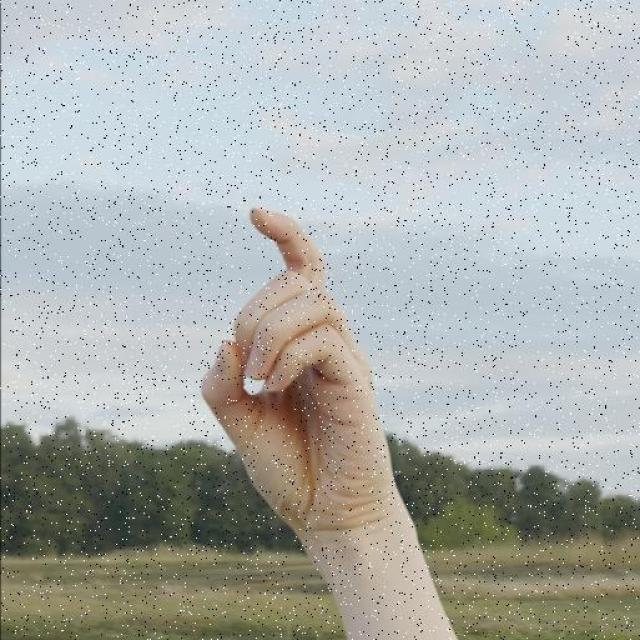X: (193, 206, 432, 528)
